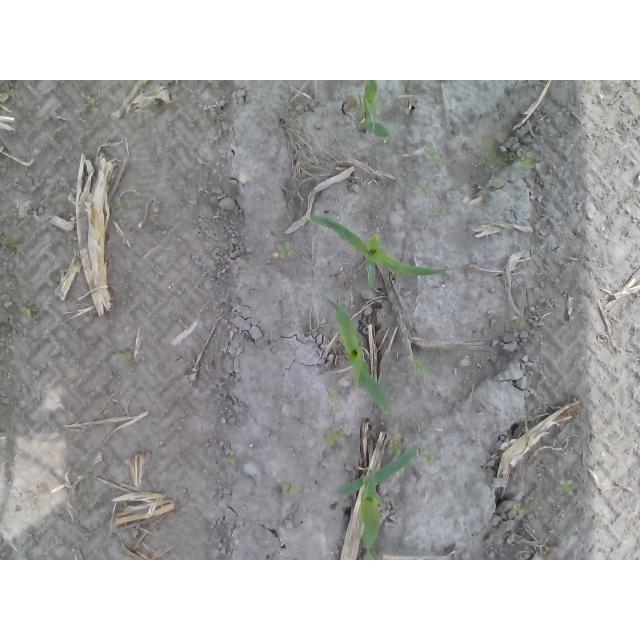Maize: (309, 214, 452, 288), (335, 440, 422, 561), (323, 295, 390, 415), (361, 80, 390, 138)
Weeds: (323, 427, 346, 450), (80, 92, 101, 112), (516, 149, 537, 167), (556, 479, 576, 497), (277, 241, 296, 259), (426, 146, 445, 163), (282, 479, 302, 495), (411, 358, 429, 375), (177, 294, 192, 314), (421, 450, 438, 467), (3, 235, 22, 250), (112, 196, 128, 213), (388, 440, 404, 457), (116, 345, 132, 361), (22, 303, 37, 320), (223, 451, 244, 463), (79, 484, 90, 504), (327, 389, 341, 404), (89, 528, 108, 539), (420, 182, 434, 196), (488, 174, 502, 187), (514, 503, 527, 516), (401, 173, 413, 187), (429, 204, 444, 214), (473, 86, 485, 96), (171, 445, 181, 456), (529, 496, 541, 505), (19, 209, 29, 219), (150, 216, 160, 225), (576, 250, 585, 258), (549, 130, 557, 137), (262, 344, 268, 350)
